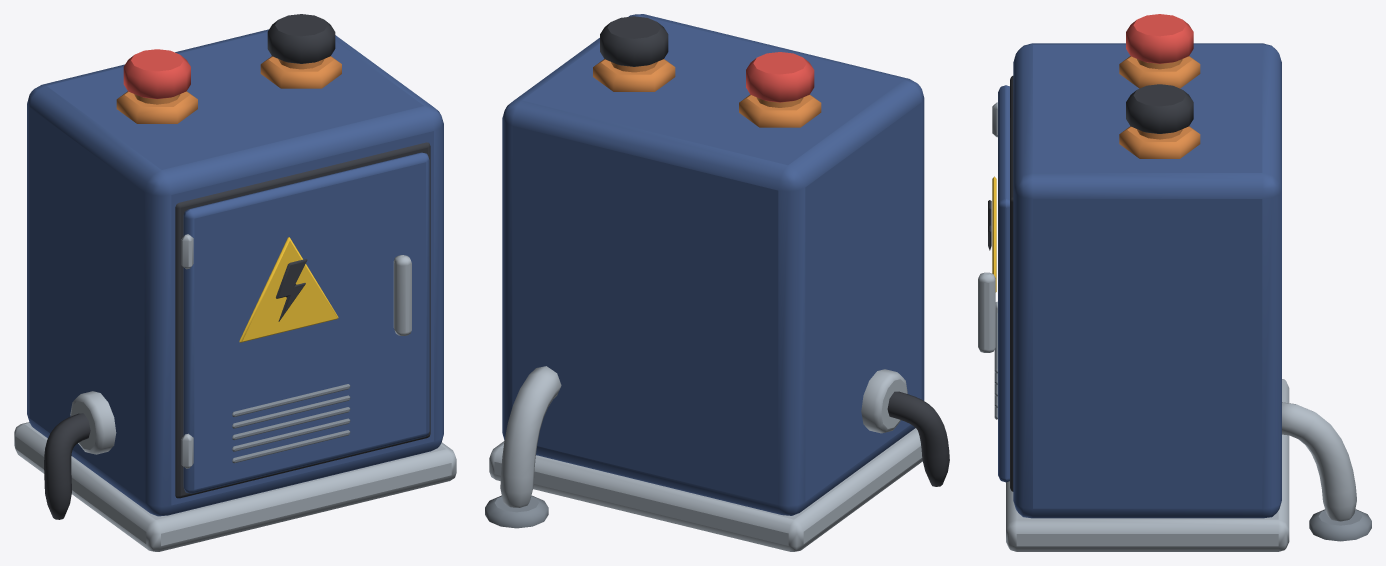
File: part-wire-terminal.glb
3 views of the same model, side by side, from view 1: azimuth 30°, elevation 25°; view 2: azimuth 150°, elevation 25°; view 3: azimuth 270°, elevation 25° (orthographic).
Visible parts, largest first — view 1: cabinet_rounded_navy_body, cabinet_front_access_door, cabinet_steel_plinth, cabinet_door_shadow_reveal, cabinet_yellow_warning_triangle, thick_cable_toward_tower_minus_X, terminal_cap_BLACK, terminal_cap_RED, tower_side_cable_gland, terminal_hex_nut_BLACK, terminal_hex_nut_RED, cabinet_pull_handle (+6 smaller); view 2: cabinet_rounded_navy_body, cabinet_steel_plinth, steel_conduit_into_ground, terminal_cap_BLACK, terminal_cap_RED, thick_cable_toward_tower_minus_X, tower_side_cable_gland, terminal_hex_nut_RED, terminal_hex_nut_BLACK, ground_conduit_flange; view 3: cabinet_rounded_navy_body, cabinet_steel_plinth, cabinet_front_access_door, steel_conduit_into_ground, terminal_cap_RED, terminal_cap_BLACK, terminal_hex_nut_BLACK, terminal_hex_nut_RED, cabinet_door_shadow_reveal, ground_conduit_flange, cabinet_pull_handle, cabinet_yellow_warning_triangle.
Boxes of the visible parts, x1,y1,x2,y2 form: cabinet_rounded_navy_body: (27, 29, 443, 516); cabinet_front_access_door: (183, 152, 429, 493); cabinet_steel_plinth: (14, 422, 456, 551); cabinet_door_shadow_reveal: (175, 142, 430, 498); cabinet_yellow_warning_triangle: (239, 237, 338, 342); thick_cable_toward_tower_minus_X: (44, 413, 90, 519); terminal_cap_BLACK: (267, 14, 335, 63); terminal_cap_RED: (123, 49, 190, 99); tower_side_cable_gland: (70, 391, 116, 454); terminal_hex_nut_BLACK: (260, 56, 341, 88); terminal_hex_nut_RED: (116, 91, 197, 123); cabinet_pull_handle: (393, 255, 411, 335); cabinet_rounded_navy_body: (502, 14, 924, 515); cabinet_steel_plinth: (489, 428, 922, 551); steel_conduit_into_ground: (500, 366, 561, 507); terminal_cap_BLACK: (600, 16, 668, 66); terminal_cap_RED: (746, 52, 814, 102); thick_cable_toward_tower_minus_X: (887, 391, 949, 486); tower_side_cable_gland: (861, 369, 907, 433); terminal_hex_nut_RED: (739, 94, 821, 127); terminal_hex_nut_BLACK: (593, 59, 675, 91); ground_conduit_flange: (485, 495, 548, 528); cabinet_rounded_navy_body: (1013, 43, 1281, 518); cabinet_steel_plinth: (1006, 379, 1289, 551); cabinet_front_access_door: (998, 85, 1009, 482); steel_conduit_into_ground: (1282, 402, 1356, 521); terminal_cap_RED: (1126, 14, 1193, 63); terminal_cap_BLACK: (1126, 84, 1193, 133); terminal_hex_nut_BLACK: (1119, 126, 1200, 158); terminal_hex_nut_RED: (1119, 56, 1200, 88); cabinet_door_shadow_reveal: (1010, 76, 1013, 491); ground_conduit_flange: (1309, 509, 1371, 541); cabinet_pull_handle: (978, 272, 995, 352); cabinet_yellow_warning_triangle: (992, 176, 996, 292).
Bounding box in the file's own units: 0.8593 × 0.95 × 0.806.
